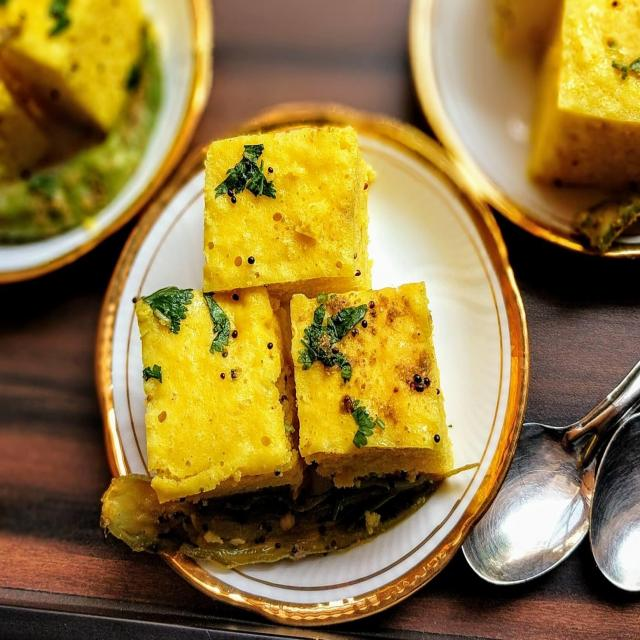dhokla: (140, 141, 467, 524), (0, 5, 149, 205), (535, 0, 640, 189)
